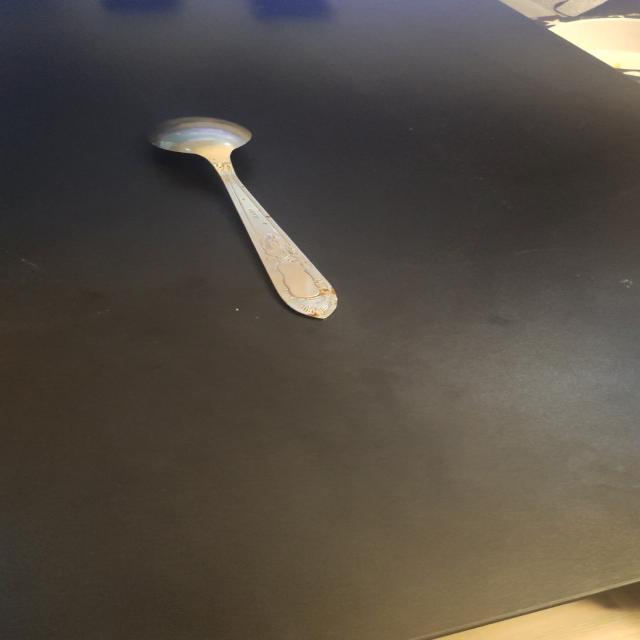plastic utensil: (151, 118, 338, 319)
